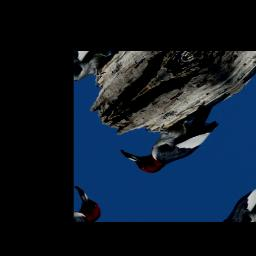Woodpecker: (118, 78, 249, 184)
